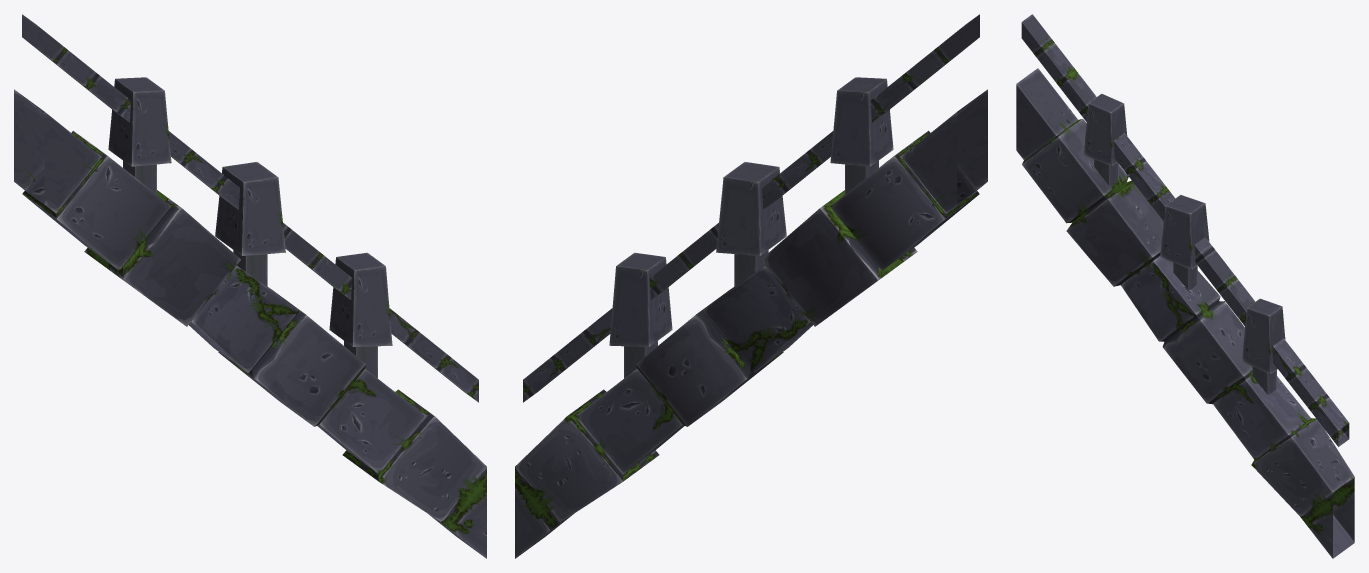
The model's file is MOD_Stairs_01_Railing_1.fbx.
3 views of the same model, side by side, from view 1: azimuth 30°, elevation 25°; view 2: azimuth 150°, elevation 25°; view 3: azimuth 330°, elevation 25° (orthographic). The views are drawn at different scales.
Parts seen in each view (by area): view 1: MOD_Stairs_01_Railing_1; view 2: MOD_Stairs_01_Railing_1; view 3: MOD_Stairs_01_Railing_1.
Boxes of the visible parts, x1,y1,x2,y2 form: MOD_Stairs_01_Railing_1: [14, 14, 486, 558]; MOD_Stairs_01_Railing_1: [515, 14, 987, 558]; MOD_Stairs_01_Railing_1: [1016, 14, 1354, 558].
Size of what is drawn, in the model's own units: 400 by 550 by 61.86.
